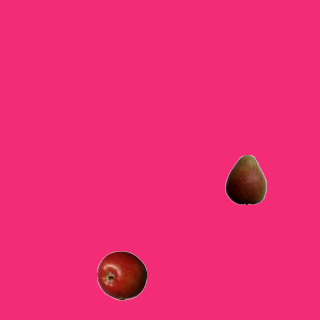Apple Braeburn: (96, 250, 146, 300)
Pear Forelle: (220, 154, 270, 204)
